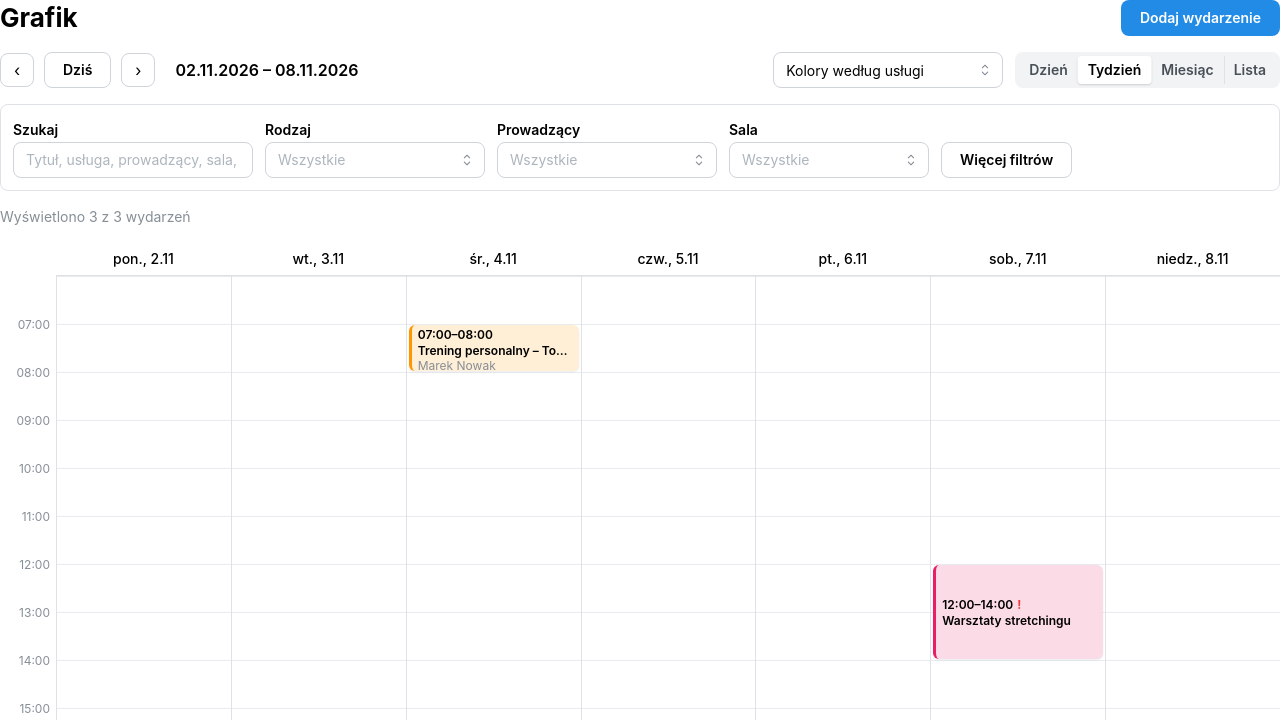
Test: uses the configured personal training capacity when selecting a service
This screenshot has width=1280, height=720.
Click the button "Dodaj wydarzenie": (1200, 18) [1121,0,1279,36]
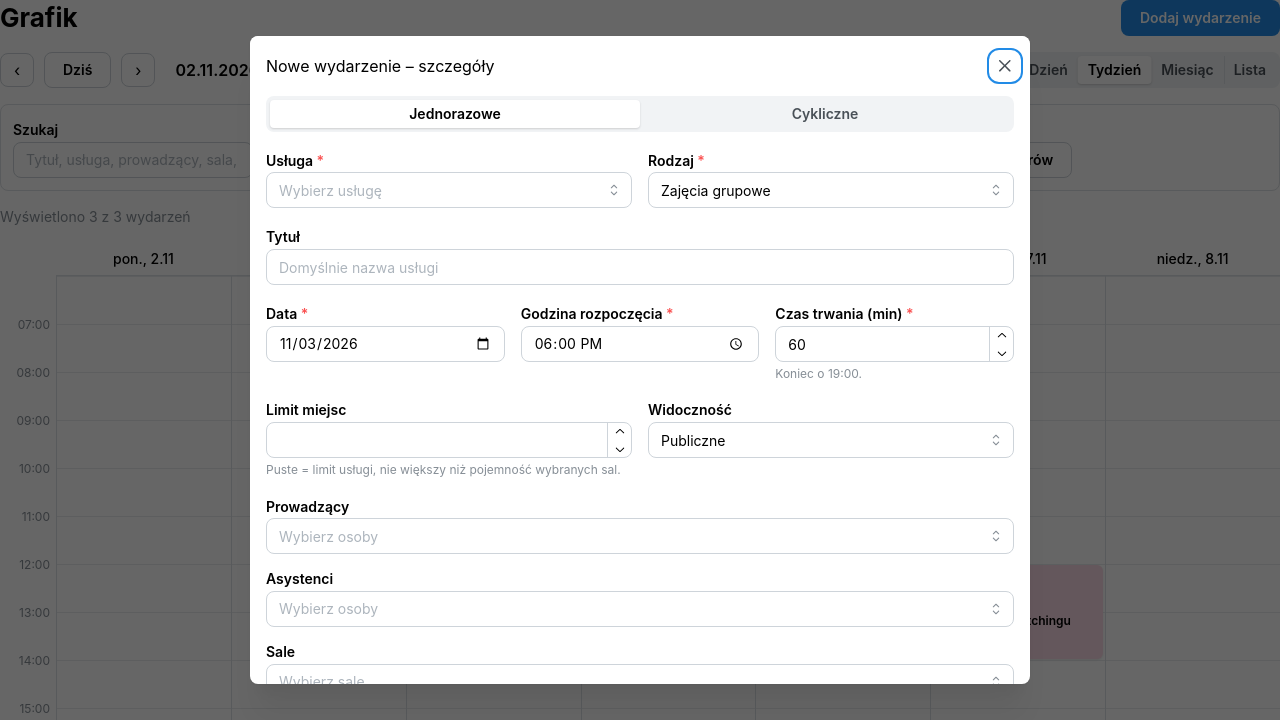
Click the dropdown labelled "Usługa *": (449, 190) [266,172,632,208]
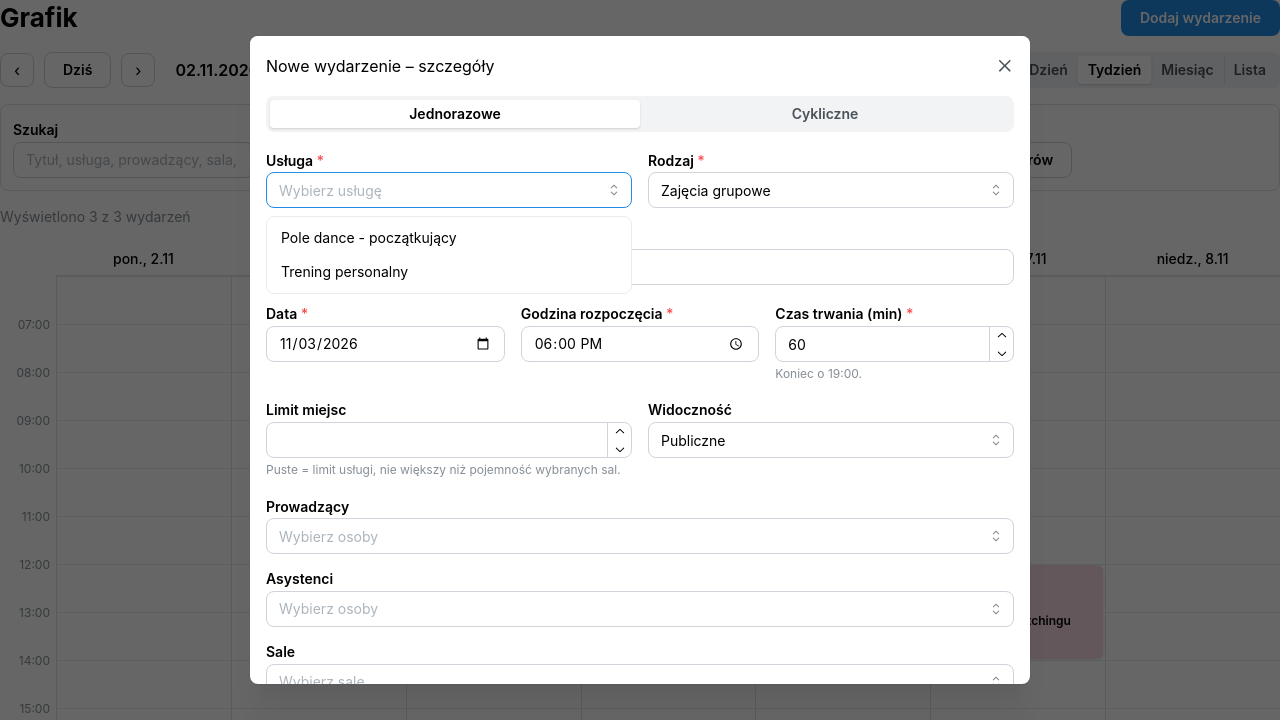
Click the option "Trening personalny": (345, 272) [281,263,408,280]
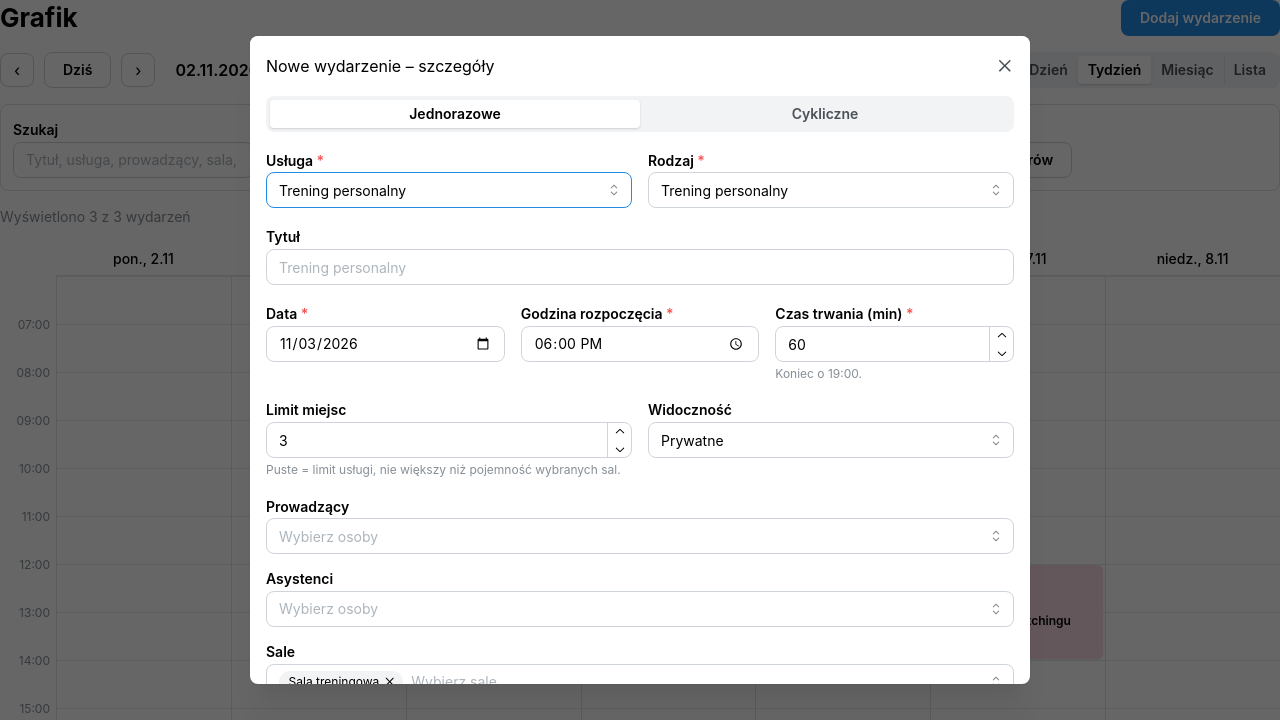
expect the field labelled "Limit miejsc" holds "3": met, box [266,422,632,458]
